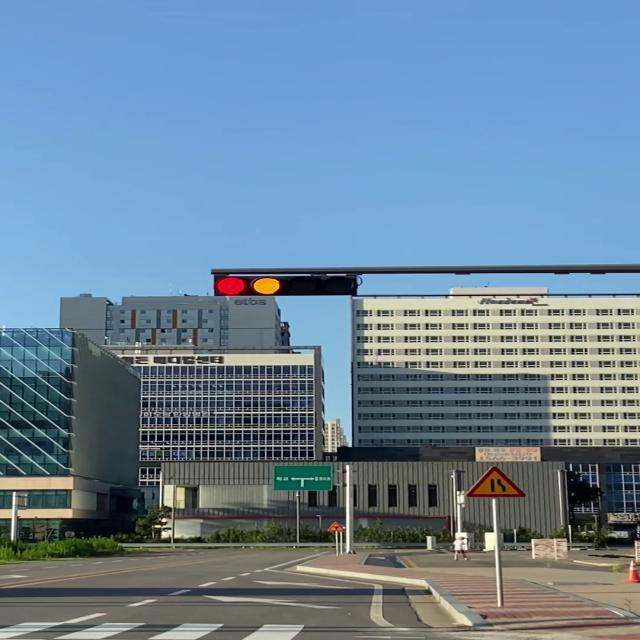yellow_light: (212, 276, 358, 295)
